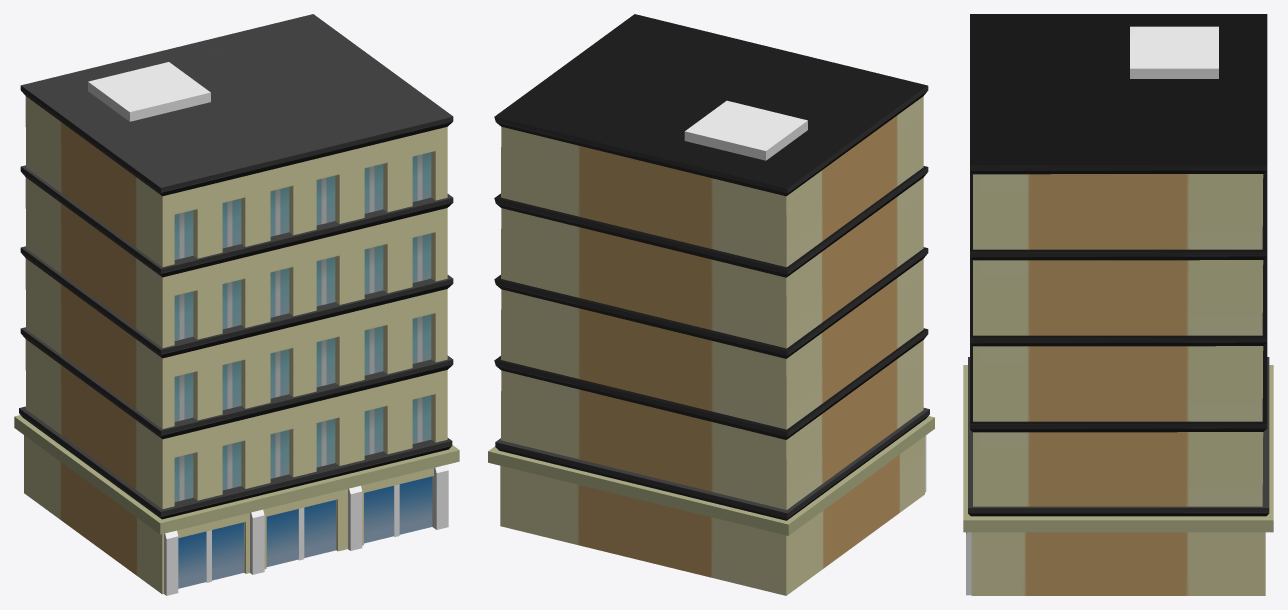
The model's file is French Stack House 4.fbx.
The picture shows the model from 3 angles, left to right: view 1: azimuth 30°, elevation 25°; view 2: azimuth 150°, elevation 25°; view 3: azimuth 270°, elevation 25°; orthographic projection. The views are drawn at different scales.
Parts seen in each view (by area): view 1: French Stack House 4; view 2: French Stack House 4; view 3: French Stack House 4.
Boxes of the visible parts, x1,y1,x2,y2 form: French Stack House 4: [14, 14, 459, 595]; French Stack House 4: [488, 14, 934, 595]; French Stack House 4: [963, 14, 1273, 595].
Bounding box in the file's own units: 4.19 × 5.58 × 3.54.
